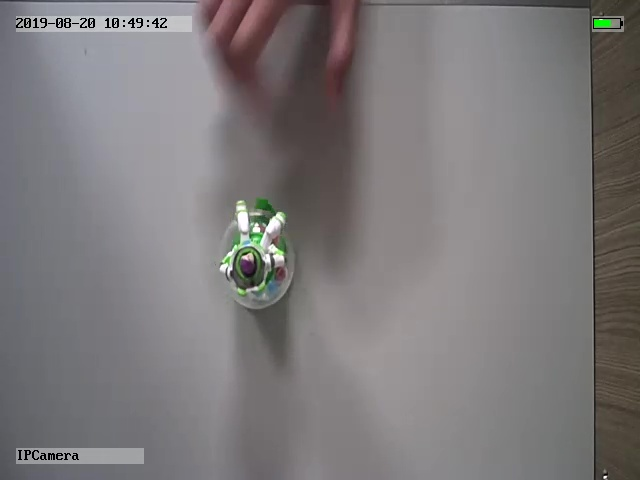buzz: (214, 196, 299, 312)
